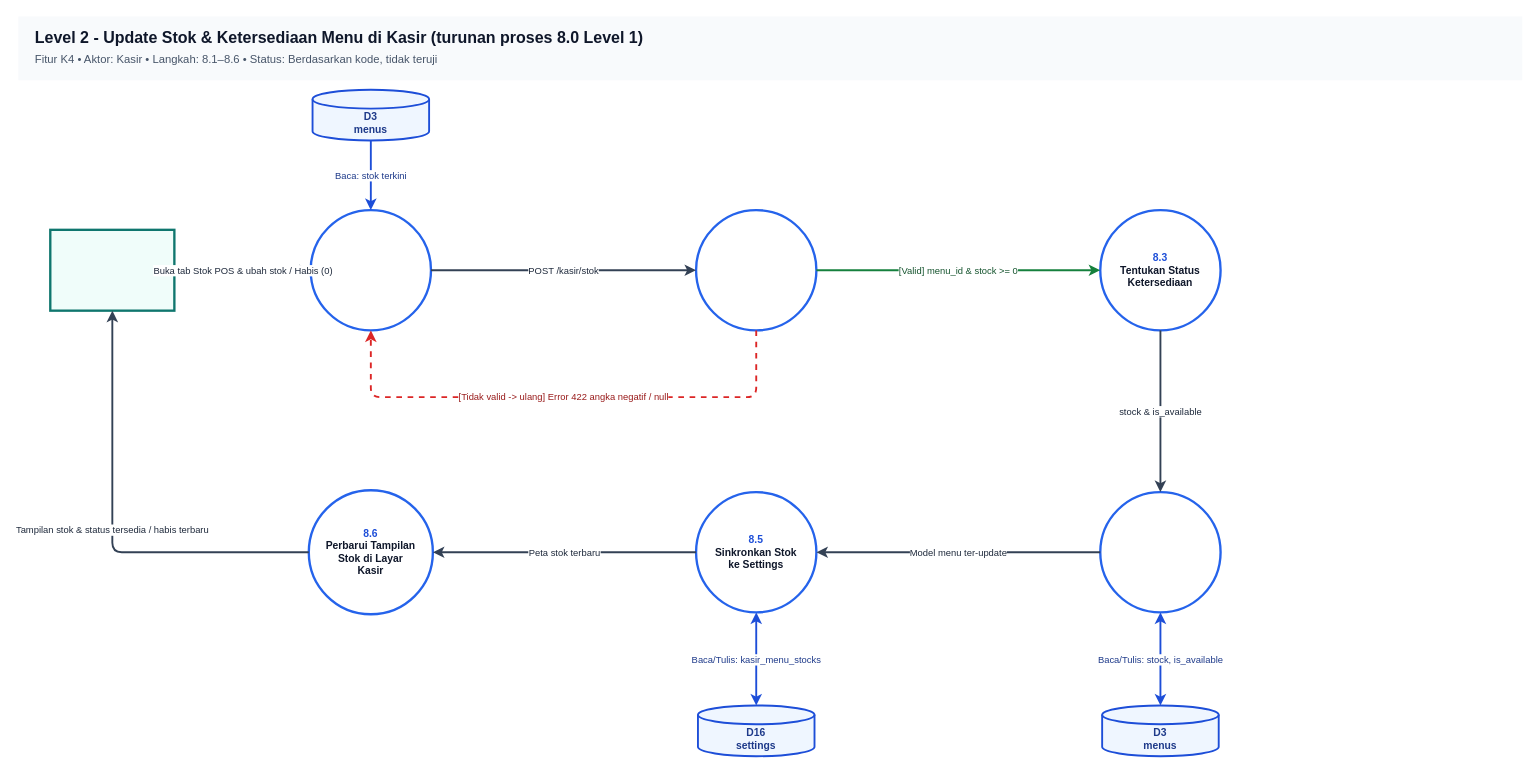
Image size: 1539x773. Some labels were removed from this diagram. The shapes that lost their labels are listed below. From the top down, each one's centre as x and y in pixels, then its label:
At point 112,269: "Kasir Terautentikasi".
At point 370,269: "8.1 Pilih Menu & Input Stok Baru".
At point 755,269: "8.2 Validasi Menu & Stok >= 0".
At point 1160,551: "8.4 Perbarui Stok & Status Menu".
